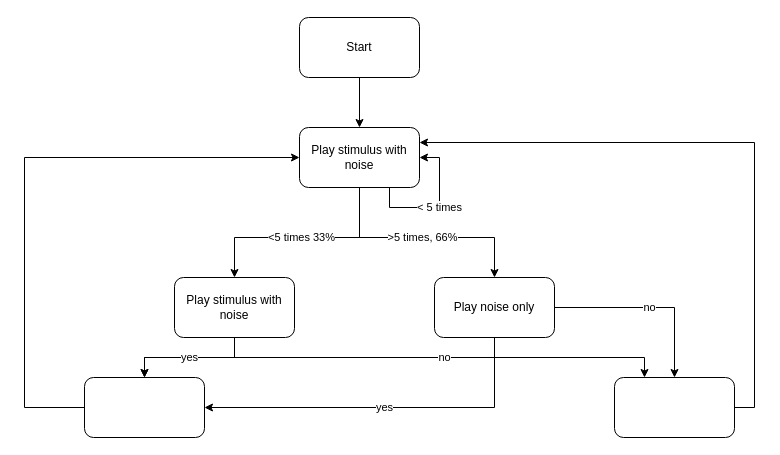
Image size: 780x455. Some labels were removed from this diagram. The box of each missing label's shape, as (x1, y1, x2, y2) in pixels:
do Nothing: (614, 376, 734, 438)
lower volume 1 dB: (84, 376, 204, 438)
